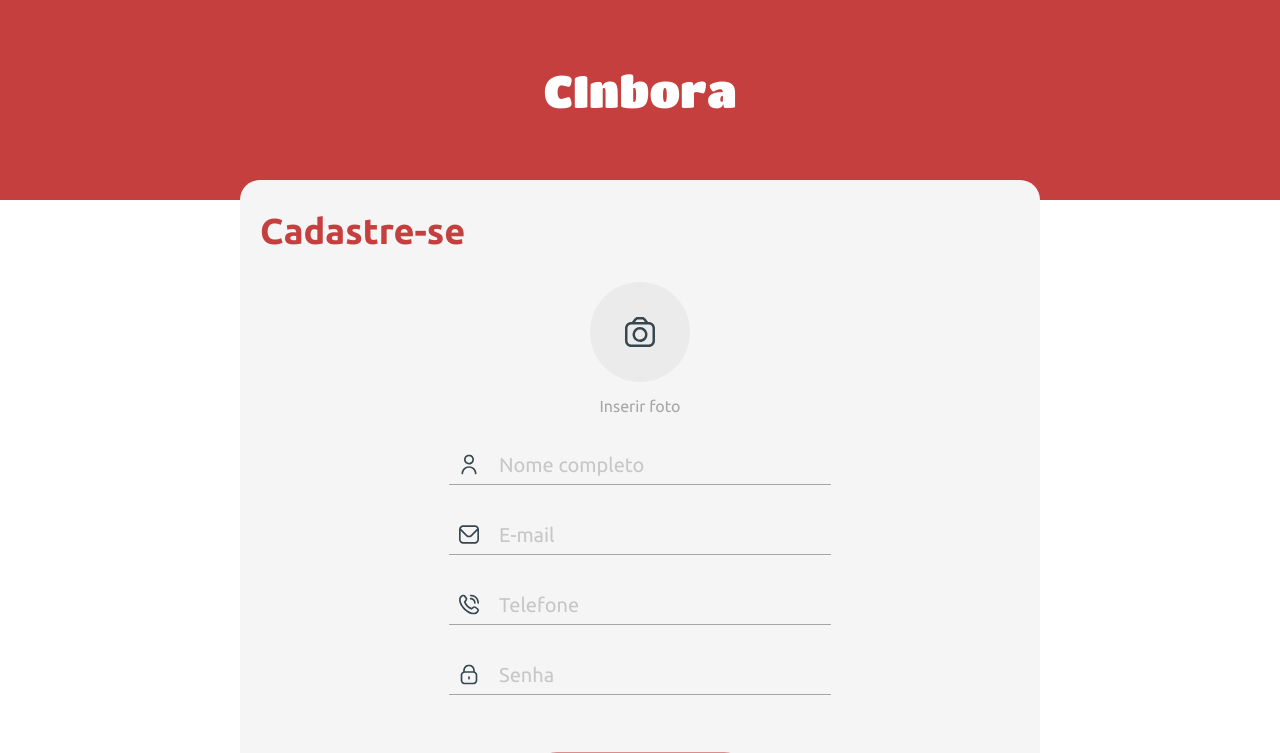
Test: Sign up › Should show error mensage in email if its not from UFPE
The image size is (1280, 753).
Type "fulanodetal@gmail.com" into the field with placeholder "E-mail" at (660, 535), box [499,515,821,554]
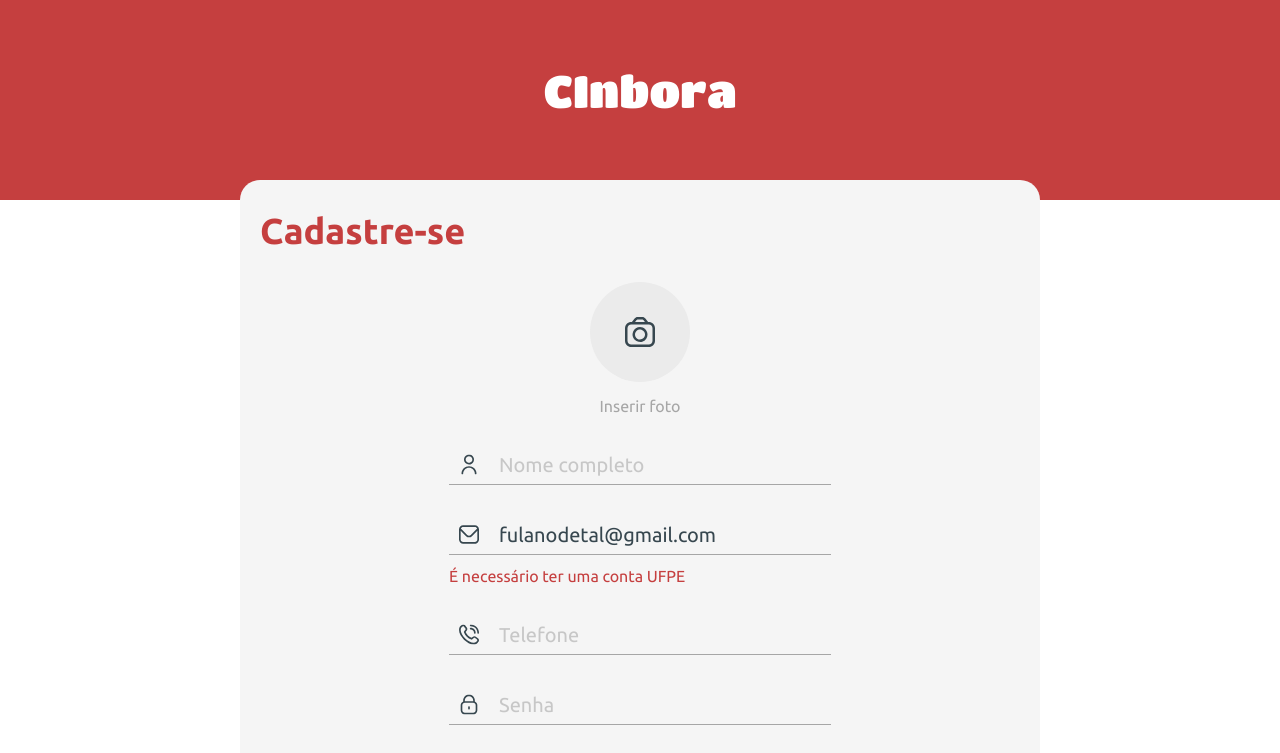
Check: the text "É necessário ter uma conta UFPE" is shown, box [449,567,685,585]
